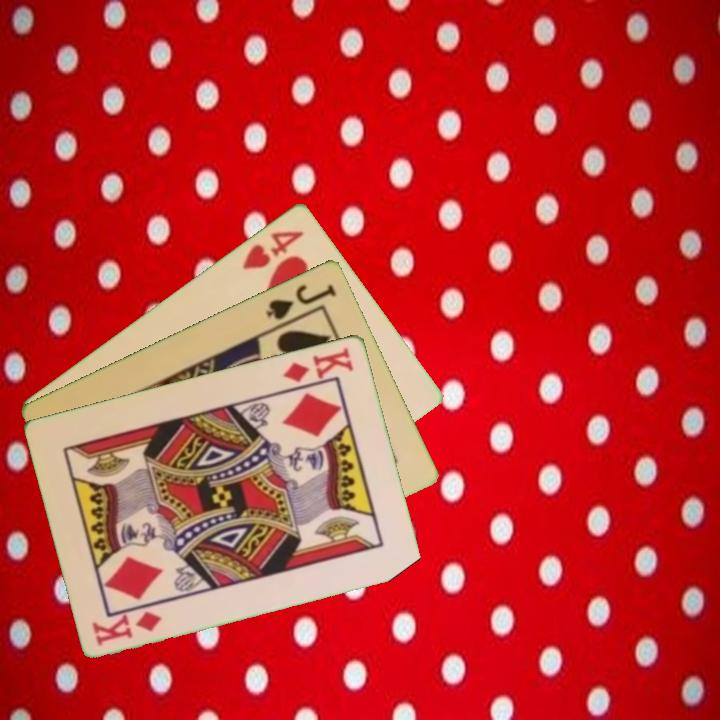4h: (239, 226, 307, 272)
Js: (262, 279, 340, 322)
Kd: (279, 343, 357, 385), (89, 607, 165, 648)
